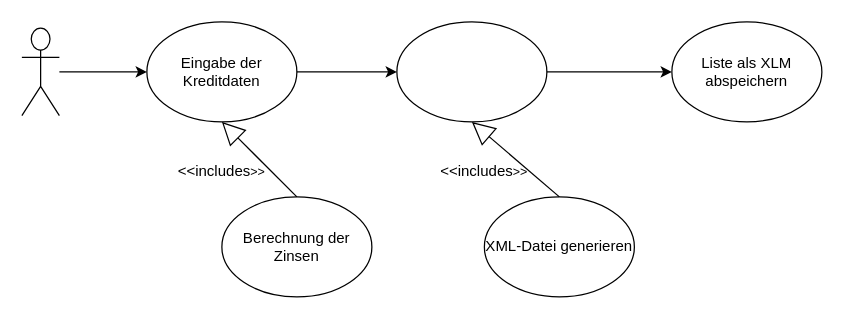
This 844x319 diagram has some shape labels left out. The shapes that lost their labels are listed below. From the top down, each one's centre as x and y in pixels, then its label:
At point 40,71: "User".
At point 471,71: "zur Liste hinzufügen".
